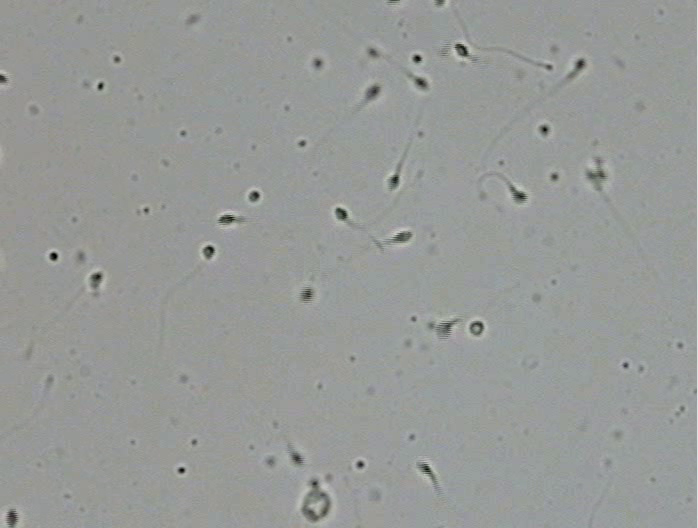Impurity: (301, 478, 331, 522)
S: (436, 321, 452, 340), (511, 189, 528, 205), (417, 460, 433, 476), (392, 231, 413, 243), (5, 509, 18, 528), (218, 213, 237, 225), (585, 171, 600, 186), (470, 320, 484, 336), (300, 287, 314, 303), (366, 86, 380, 100), (455, 43, 469, 57), (388, 174, 400, 190), (440, 42, 451, 59), (89, 272, 102, 286), (291, 452, 304, 466), (335, 207, 348, 221), (595, 164, 606, 180), (203, 245, 215, 259), (573, 59, 586, 71), (248, 190, 260, 202), (415, 78, 428, 89), (539, 125, 550, 136), (313, 58, 323, 69), (1, 73, 9, 85), (412, 54, 422, 63), (368, 49, 377, 57), (434, 1, 445, 7), (387, 1, 400, 5)
